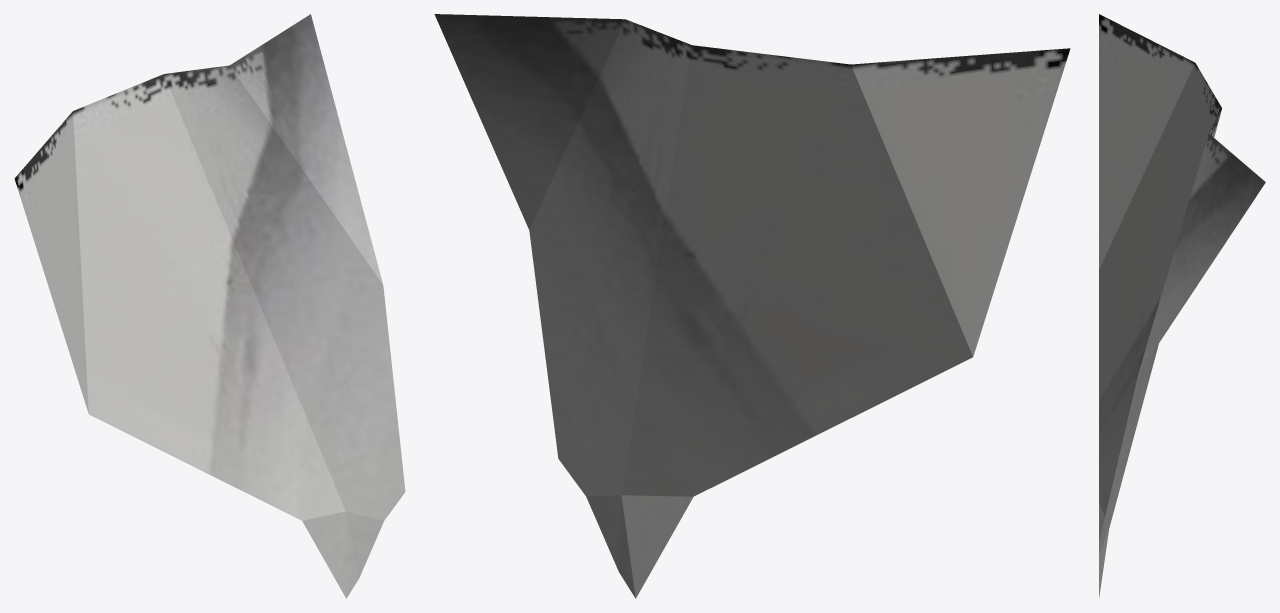
3 views of the same model, side by side, from view 1: azimuth 30°, elevation 25°; view 2: azimuth 150°, elevation 25°; view 3: azimuth 270°, elevation 25° (orthographic). The views are drawn at different scales.
Size of the model in its own units: 2.63 by 3.22 by 1.1.
Materials: 1 (1 with a texture image).
